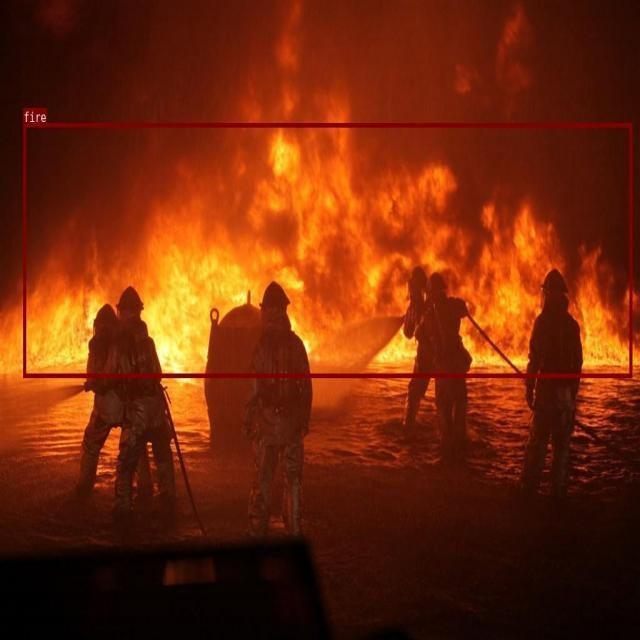fire: (23, 123, 631, 377)
